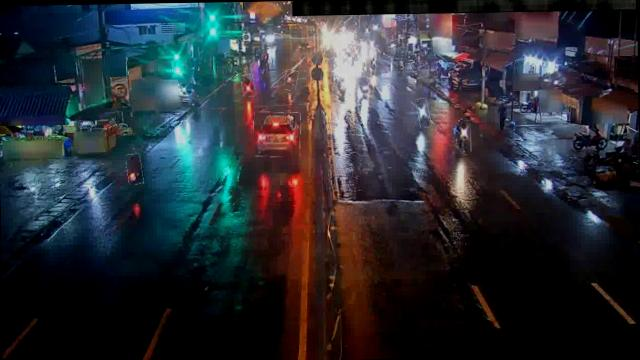Bike: (452, 120, 471, 155), (126, 154, 144, 184), (416, 97, 430, 127), (242, 74, 256, 96), (284, 70, 298, 91), (359, 76, 370, 98), (338, 74, 346, 102)
Car: (253, 112, 301, 158)
